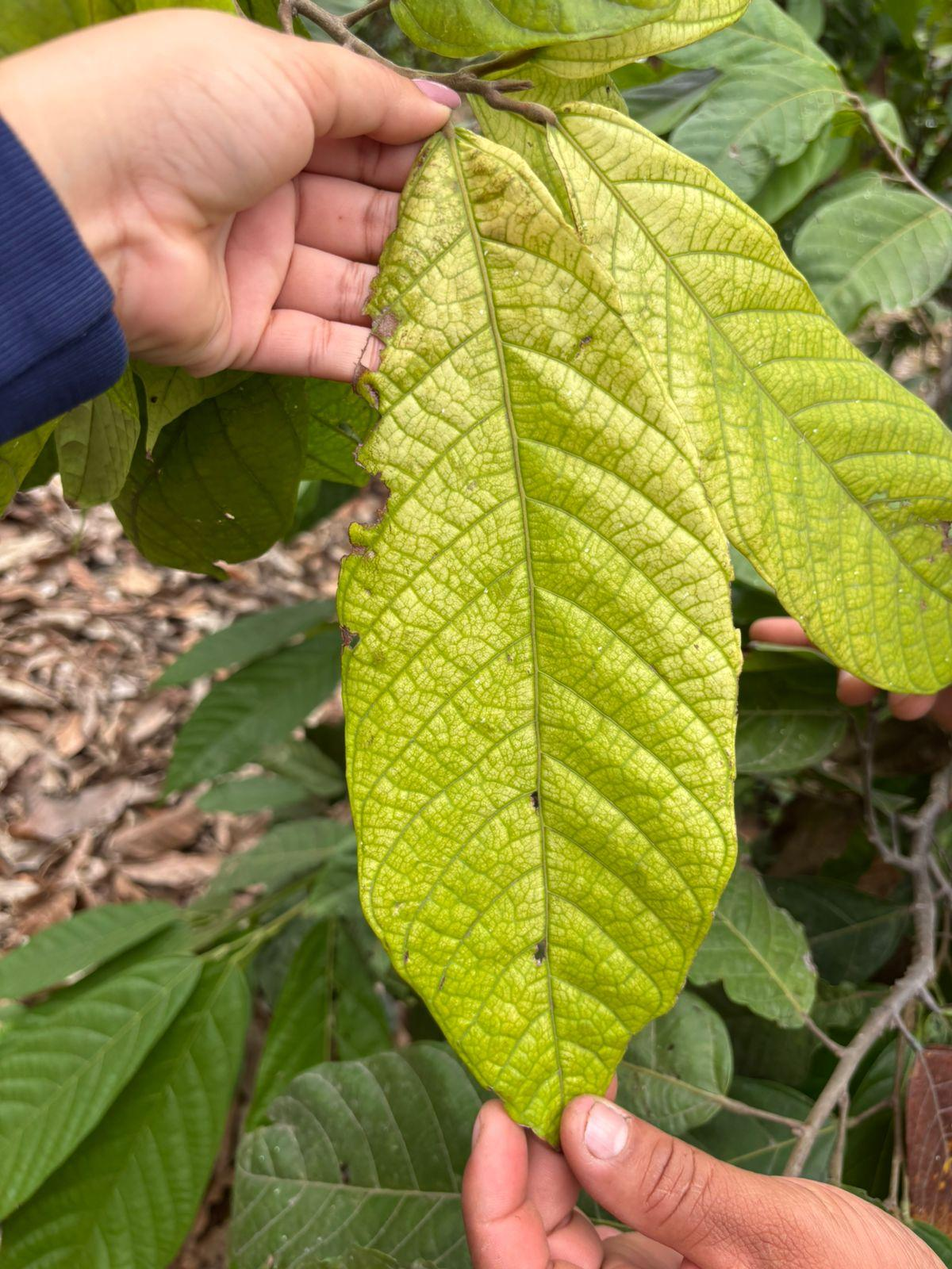deficiencia_nitrogeno: (339, 131, 740, 1141), (548, 104, 951, 693)
